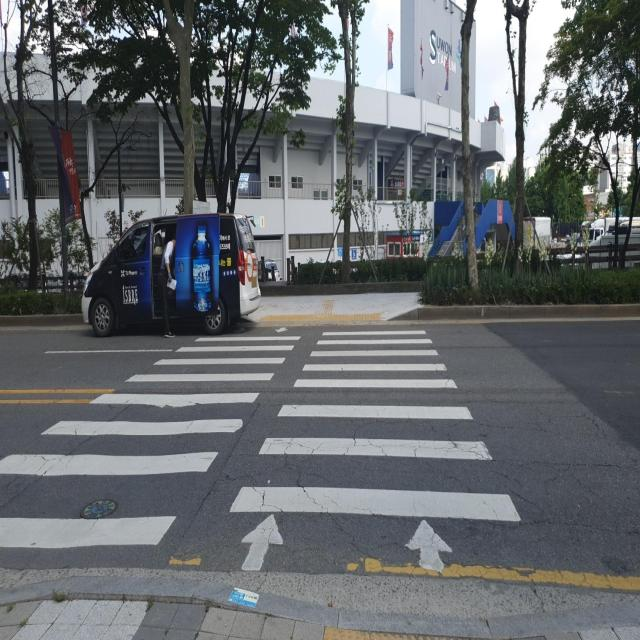횡단보도: (0, 318, 525, 576)
